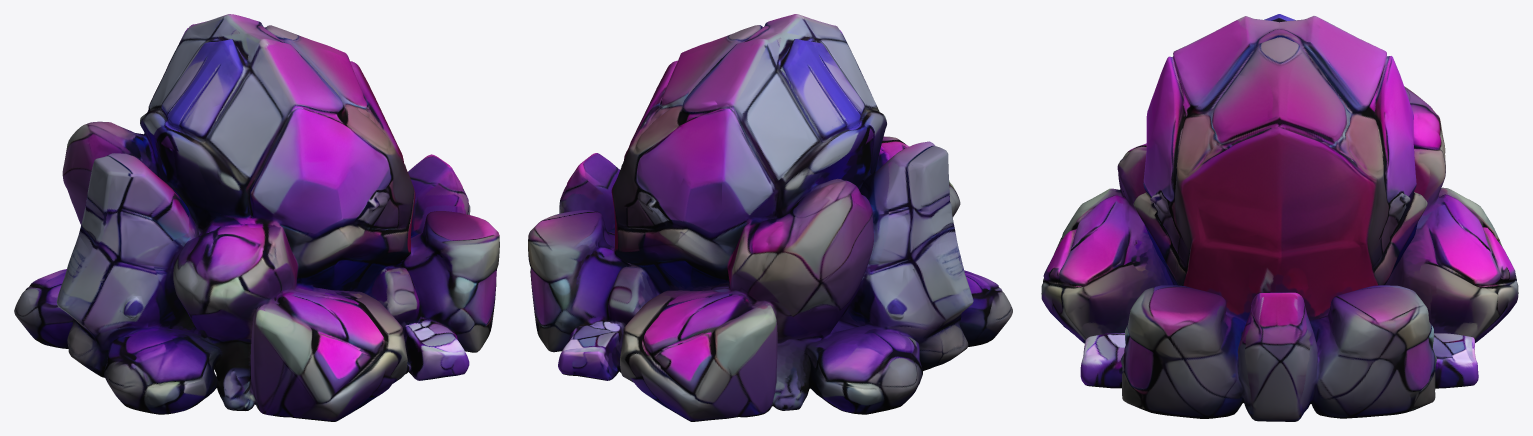
The model's file is GemPurple.fbx.
3 renders of one model, left to right at view 1: azimuth 30°, elevation 25°; view 2: azimuth 150°, elevation 25°; view 3: azimuth 270°, elevation 25°, orthographic.
Parts seen in each view (by area): view 1: texture_v100; view 2: texture_v100; view 3: texture_v100.
Part boxes in pixels (left/top/right/bottom): texture_v100: left=14, top=14, right=499, bottom=421; texture_v100: left=528, top=14, right=1012, bottom=421; texture_v100: left=1041, top=14, right=1518, bottom=421.
Size of the model in its own units: 98.12 by 71.04 by 98.9.
Materials: 1 (1 with a texture image).
